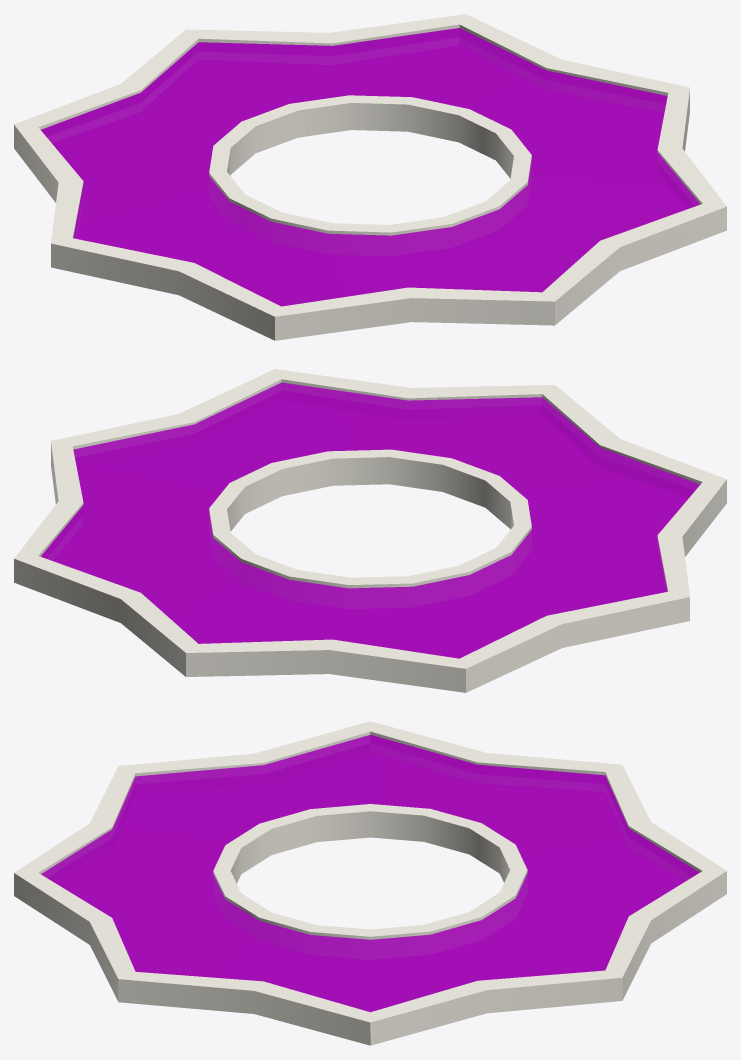
File: Ambient_level_changer.fbx
3 views of the same model, one above another, from view 1: azimuth 30°, elevation 25°; view 2: azimuth 150°, elevation 25°; view 3: azimuth 270°, elevation 25° (orthographic). The views are drawn at different scales.
Visible parts, largest first — view 1: s.001, s.003, s.002; view 2: s.001, s.003, s.002; view 3: s.001, s.003, s.002.
Part boxes in pixels (left/top/right/bottom): s.001: left=41, top=28, right=700, bottom=306; s.003: left=14, top=14, right=726, bottom=340; s.002: left=209, top=95, right=531, bottom=235; s.001: left=41, top=382, right=700, bottom=658; s.003: left=14, top=369, right=726, bottom=692; s.002: left=209, top=449, right=531, bottom=588; s.001: left=41, top=735, right=699, bottom=1012; s.003: left=14, top=721, right=726, bottom=1045; s.002: left=213, top=804, right=527, bottom=939.
Bounding box in the file's own units: 1298 × 1298 × 54.48.
